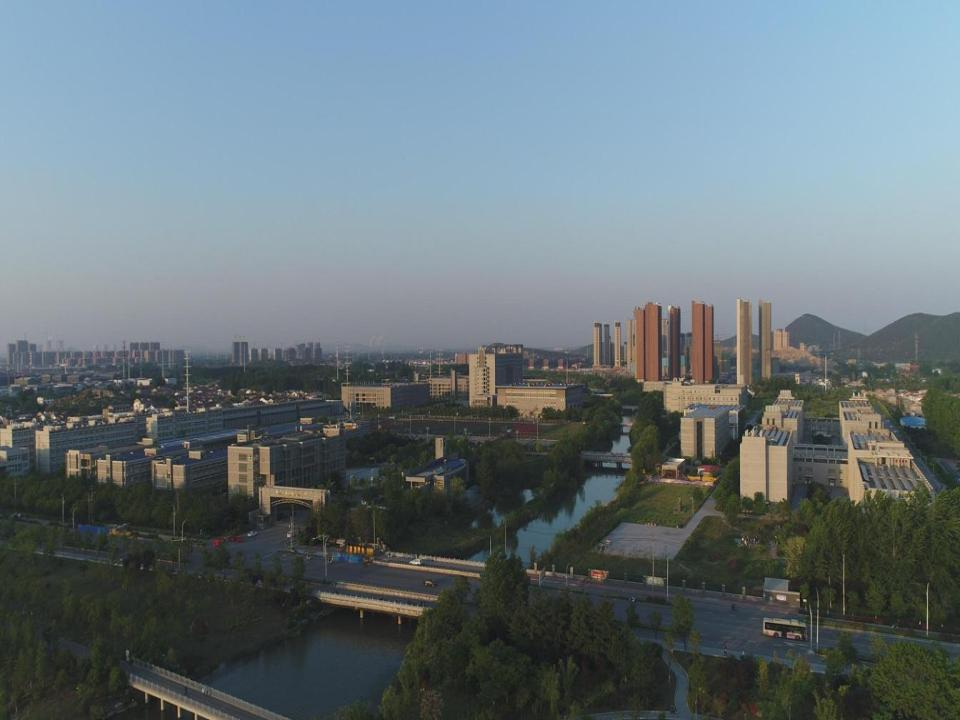bus: (762, 616, 808, 641)
car: (422, 577, 437, 587), (409, 558, 422, 566), (247, 530, 257, 537)
van: (286, 530, 294, 539)
